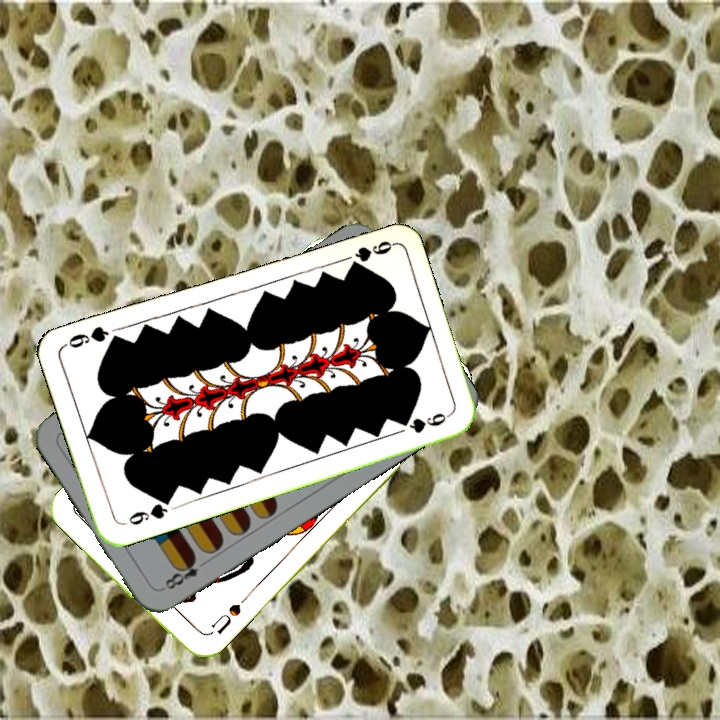E8: (158, 552, 211, 593)
G9: (119, 494, 174, 528), (351, 236, 395, 264)
SU: (204, 599, 244, 639)
